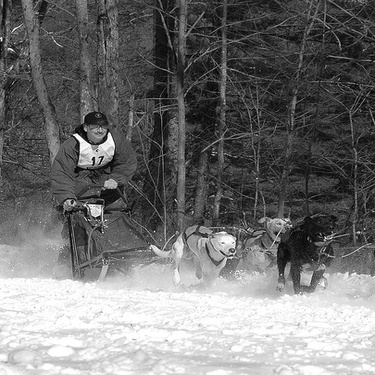dog: (134, 214, 242, 297), (206, 204, 299, 294), (272, 206, 346, 306)
